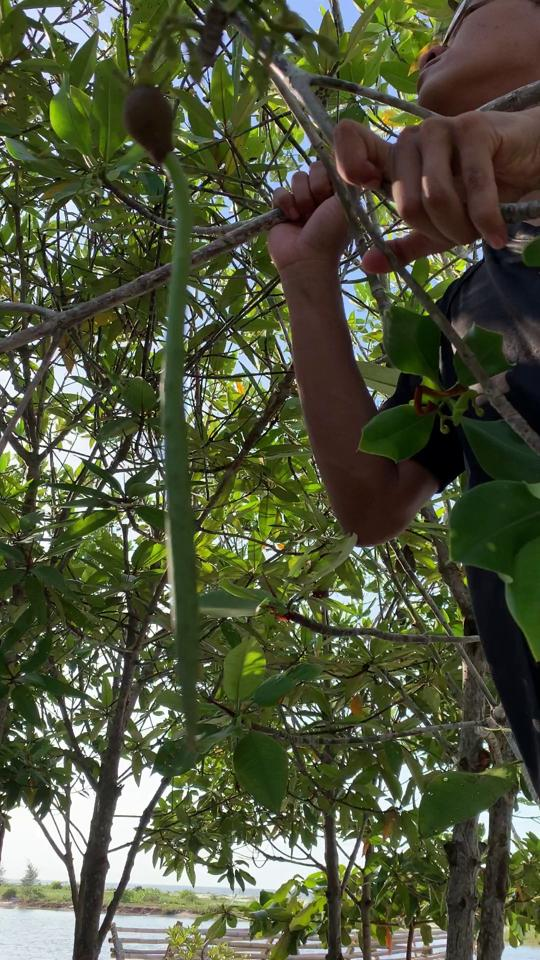mentah: (105, 70, 227, 751)
